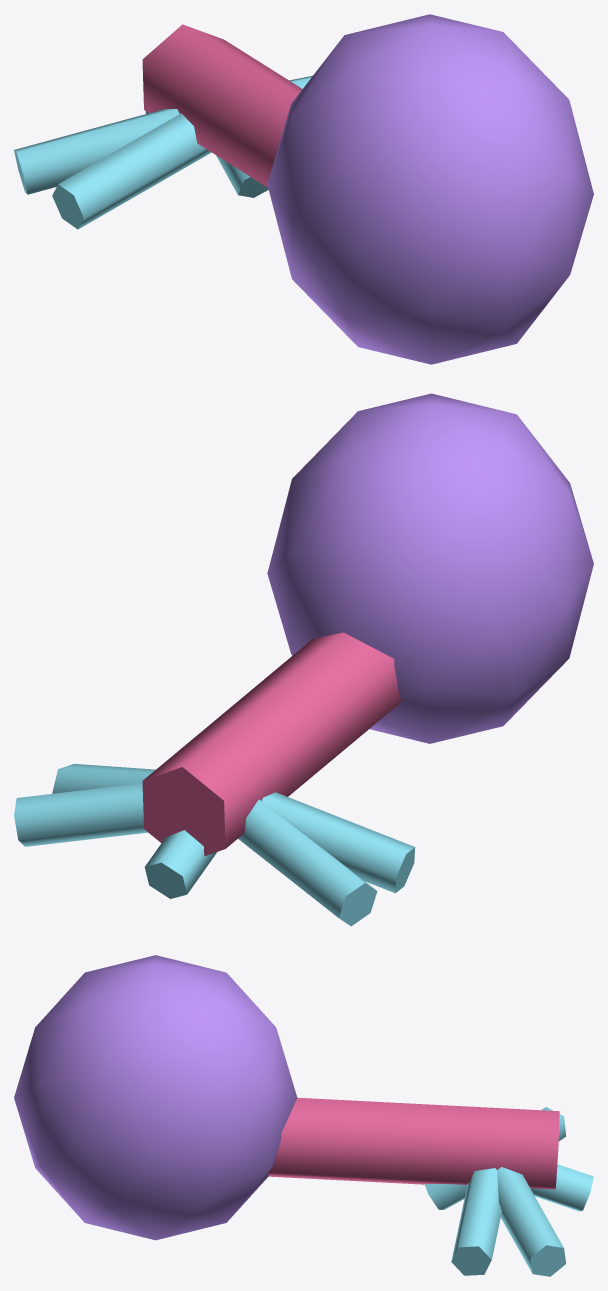
3 views of the same model, one above another, from view 1: azimuth 30°, elevation 25°; view 2: azimuth 150°, elevation 25°; view 3: azimuth 270°, elevation 25° (orthographic). The views are drawn at different scales.
Visible parts, largest first — view 1: Capsid, Neck, Motion_phage-2; view 2: Capsid, Neck, Motion_phage-2; view 3: Capsid, Neck, Motion_phage-2.
Boxes of the visible parts, <box> form: Capsid: <box>267,14,593,364</box>; Neck: <box>142,24,302,187</box>; Motion_phage-2: <box>14,75,312,229</box>; Capsid: <box>267,393,593,743</box>; Neck: <box>142,632,402,856</box>; Motion_phage-2: <box>14,764,415,926</box>; Capsid: <box>14,955,297,1240</box>; Neck: <box>268,1097,559,1189</box>; Motion_phage-2: <box>424,1107,593,1276</box>.
Size of the model in its own units: 0.5635 by 0.5 by 0.9823.
